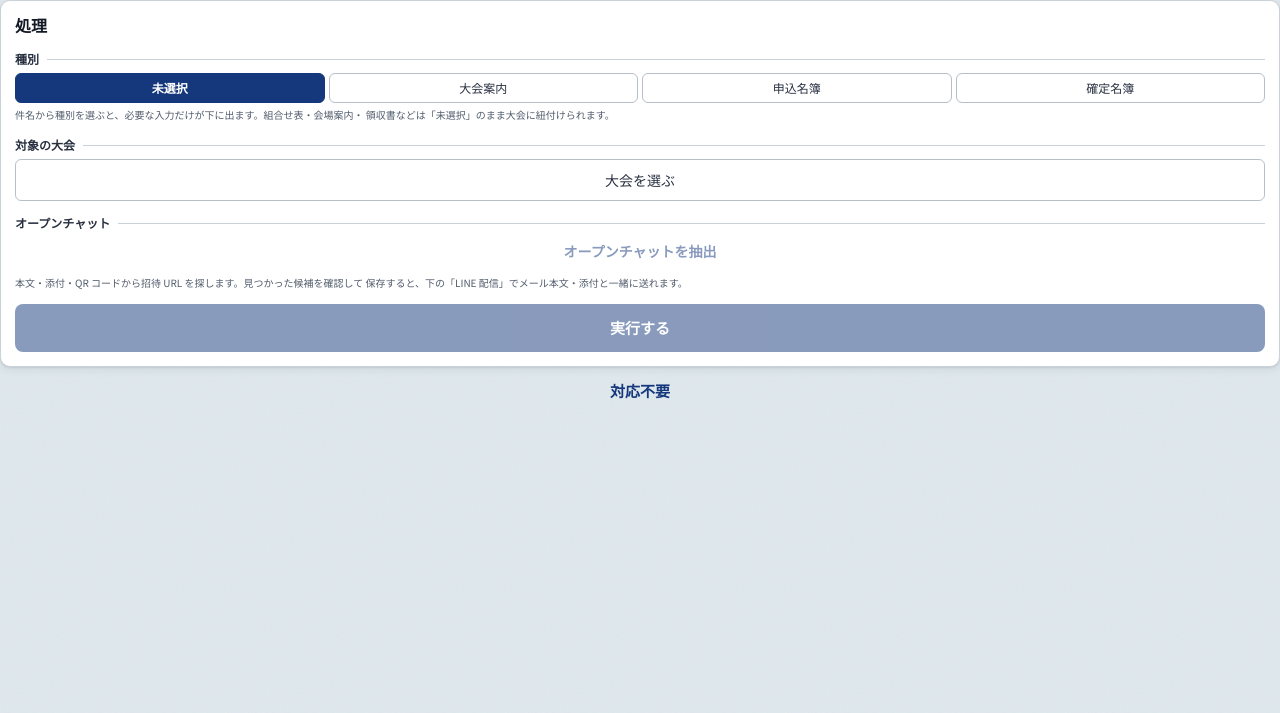
MailProcessForm — 会計へ振込連絡 › 送信できないときは理由を出し、人数欄は出さない（AC-34 / AC-35）
The image size is (1280, 713).
Click the button "確定名簿": [1110, 88] box [956,73,1265,103]
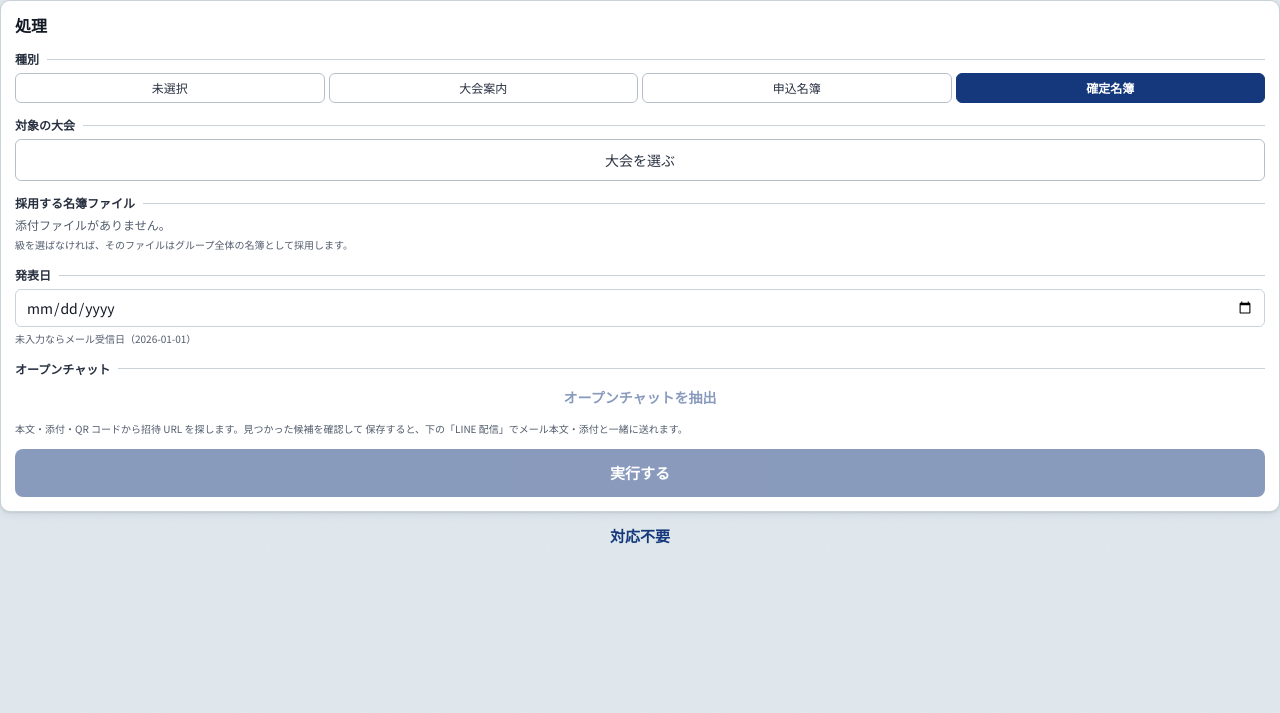
Click the button "大会を選ぶ": [640, 160] box [15,139,1265,181]
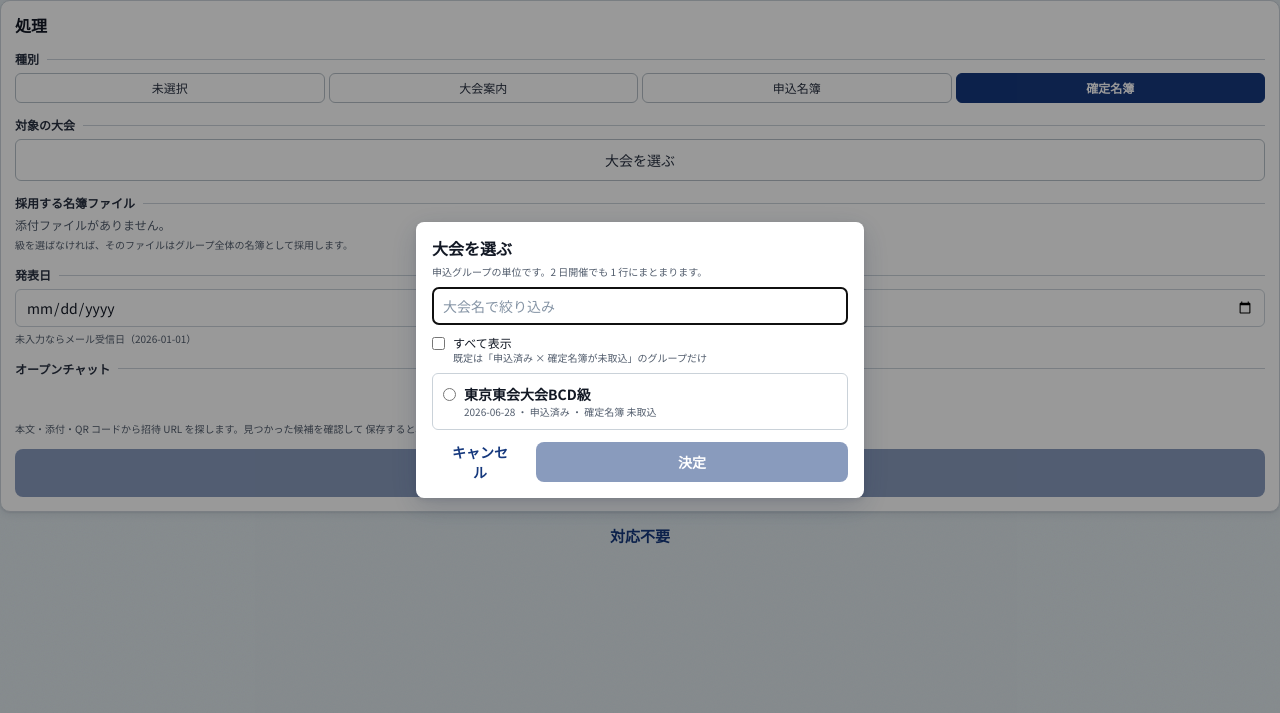
Click the radio button: [450, 394] box [443,388,456,401]
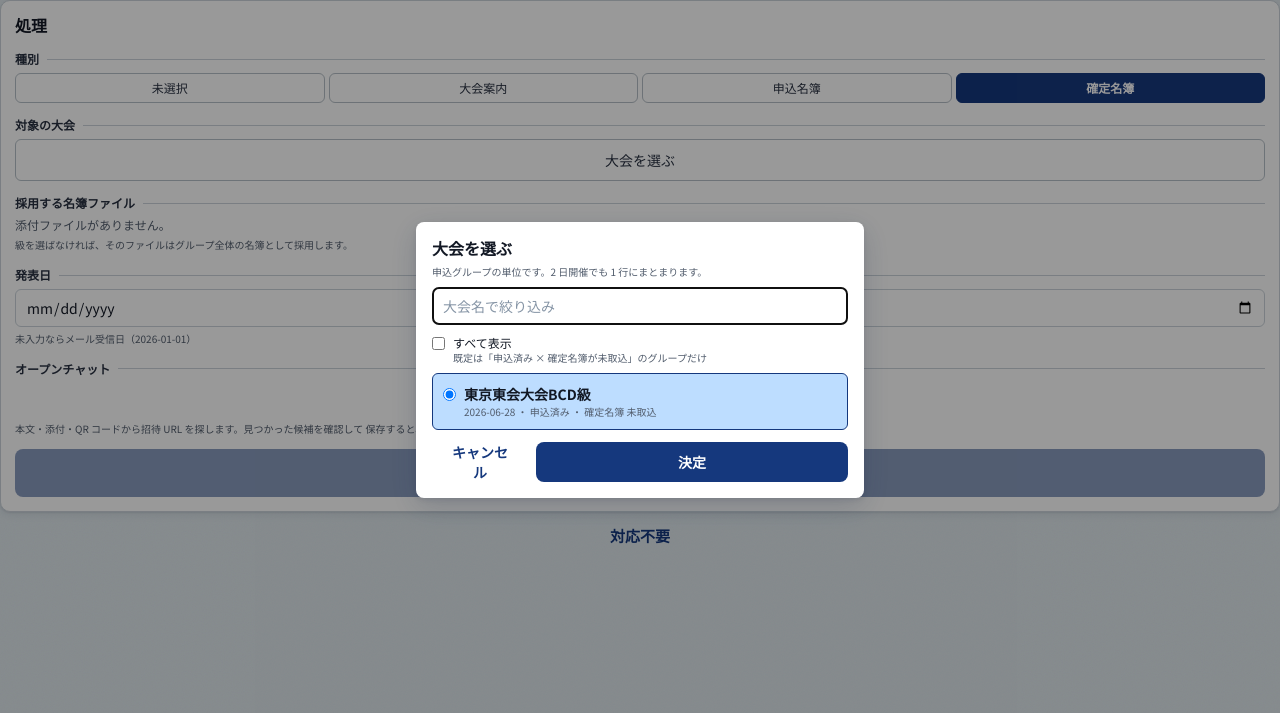
Click the button "決定": [692, 462] box [536,442,848,482]
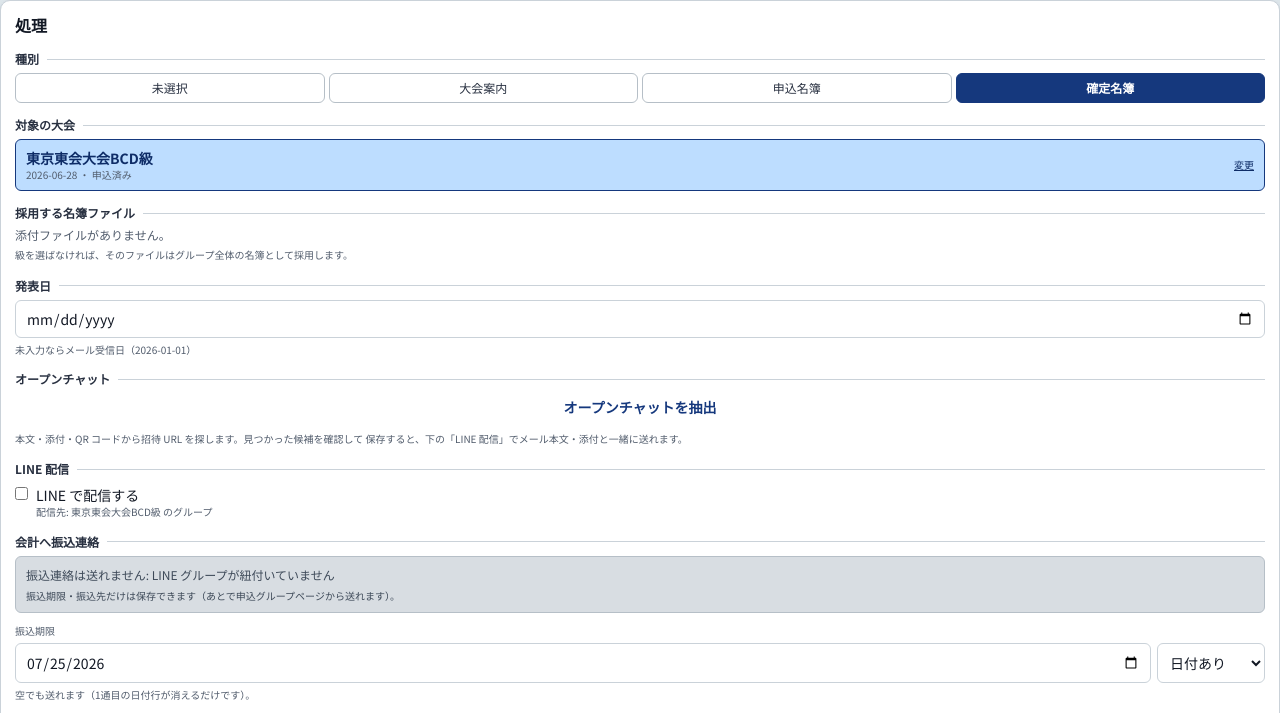
Result: the text "振込連絡は送れません: LINE グループが紐付いていません" is shown at [15,556,1265,613]
Result: the text "会計へ振込連絡" is shown at [15,534,99,550]
